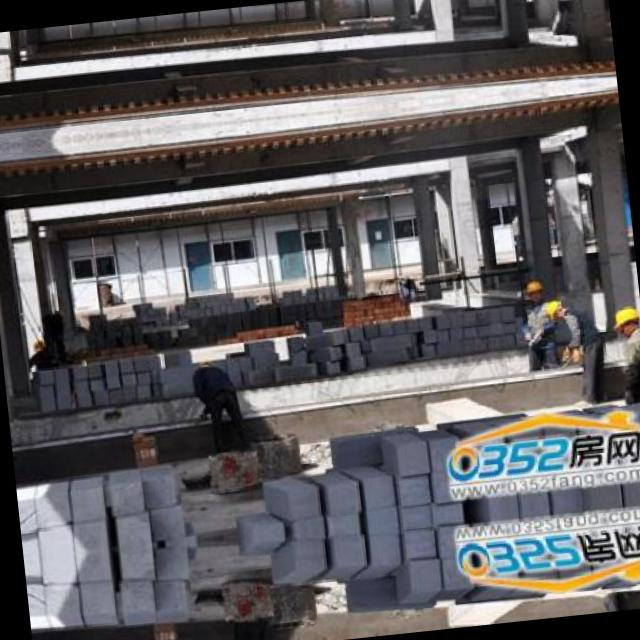helmet: (605, 299, 640, 342), (524, 276, 546, 304), (542, 294, 566, 319)
